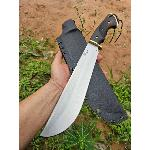Golok: (36, 8, 126, 142)
